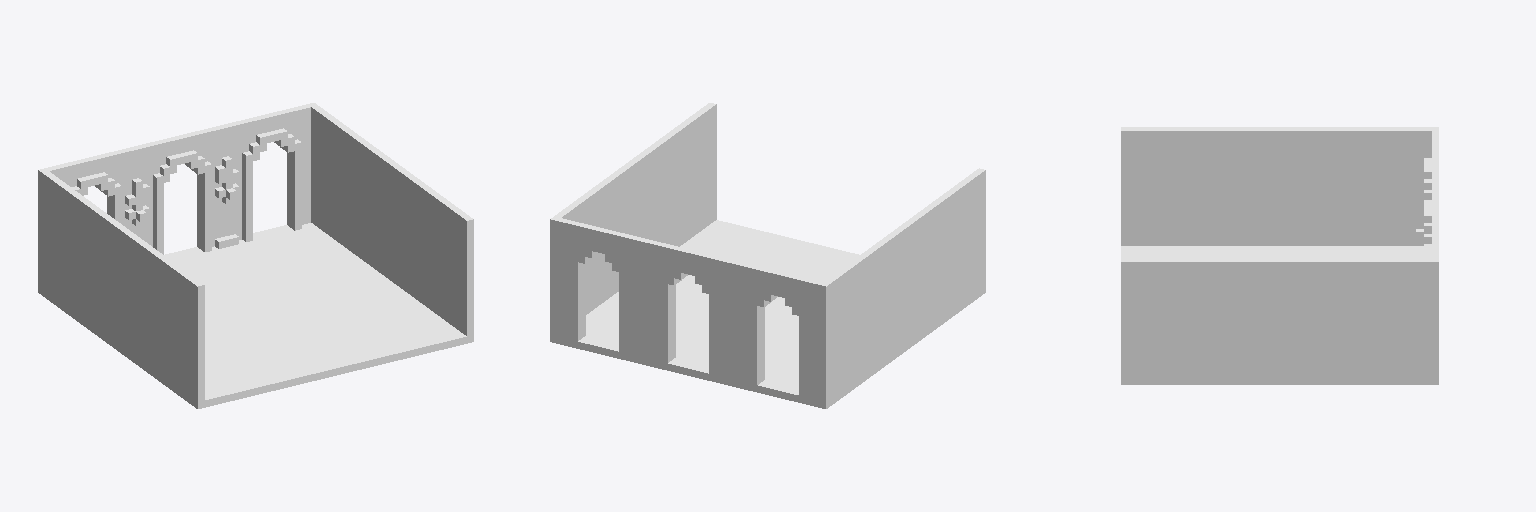
File: Portas.obj
3 views of the same model, side by side, from view 1: azimuth 30°, elevation 25°; view 2: azimuth 150°, elevation 25°; view 3: azimuth 270°, elevation 25° (orthographic).
Parts seen in each view (by area): view 1: Portas; view 2: Portas; view 3: Portas.
Boxes of the visible parts, x1,y1,x2,y2 form: Portas: [38, 103, 473, 408]; Portas: [550, 103, 985, 408]; Portas: [1121, 127, 1438, 384].
Bounding box in the file's own units: 40 × 17 × 40.